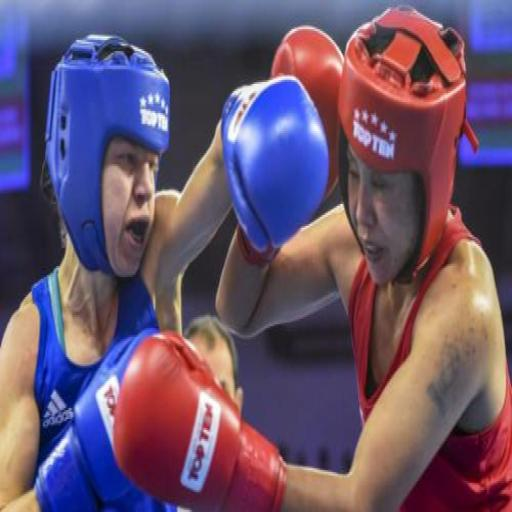boxing: (113, 4, 511, 510), (0, 30, 337, 512)
